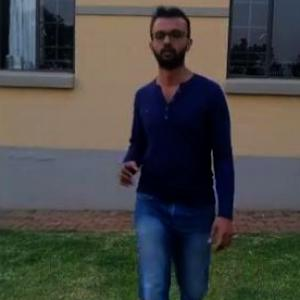follow: (124, 1, 247, 299)
